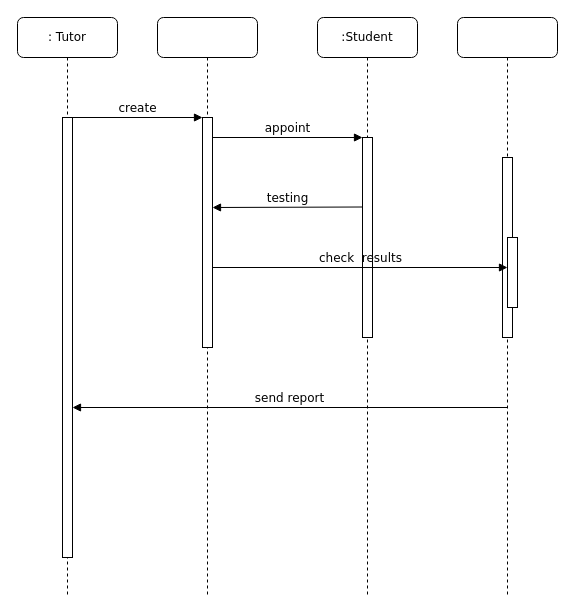
Image size: 575x615. Some labels were removed from this diagram. Here are the shapes that lost their labels. From the top down, the centre of each, then its label:
the point at 207,307: :Test
the point at 507,307: :Report
